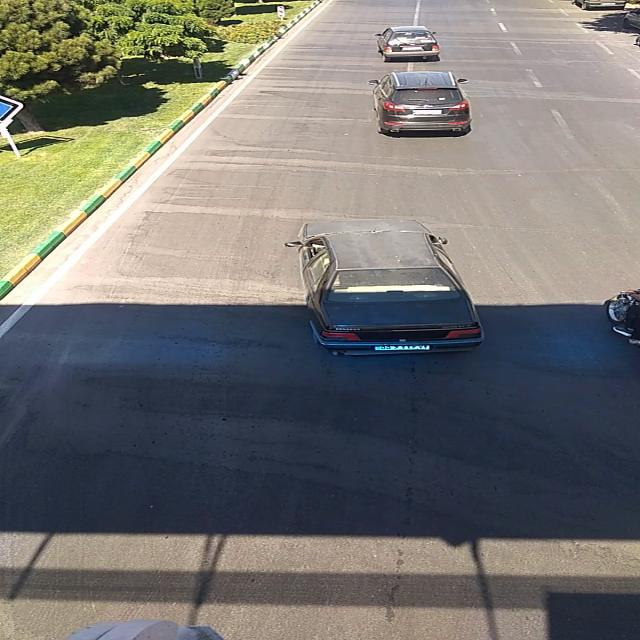car: (281, 216, 487, 356), (370, 74, 471, 138), (376, 27, 440, 59)
